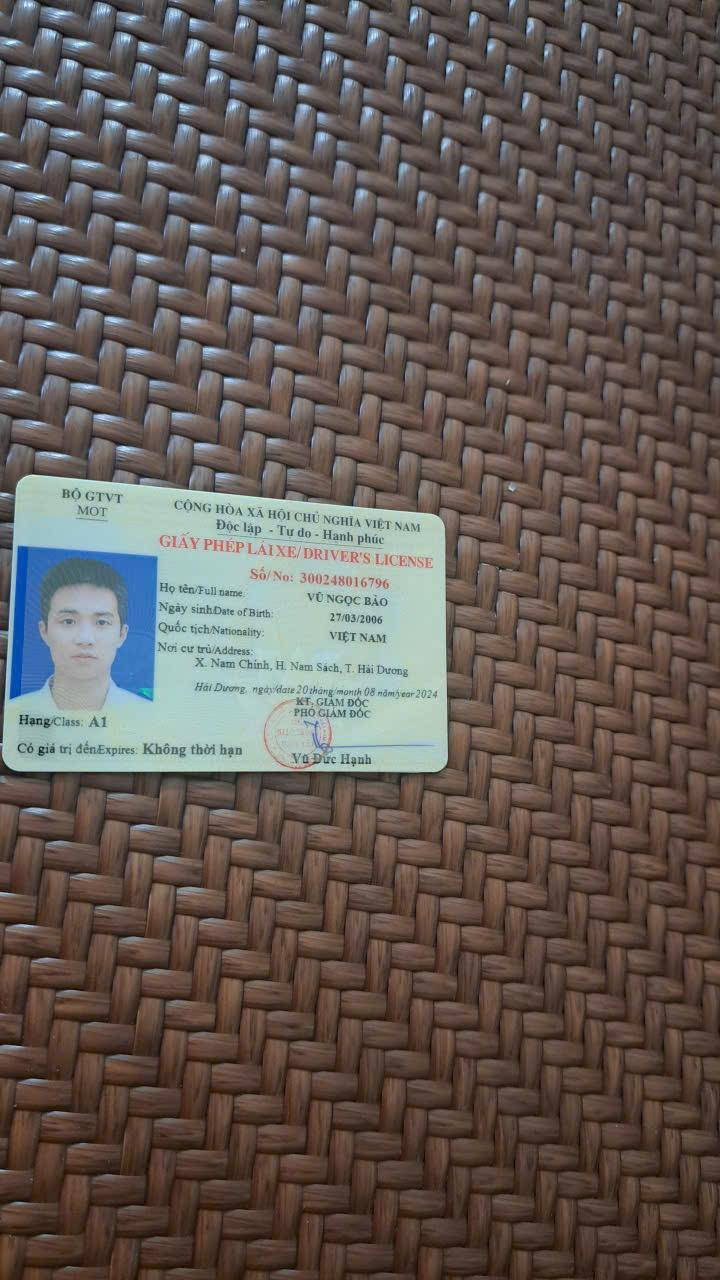gplx: (0, 467, 452, 782)
